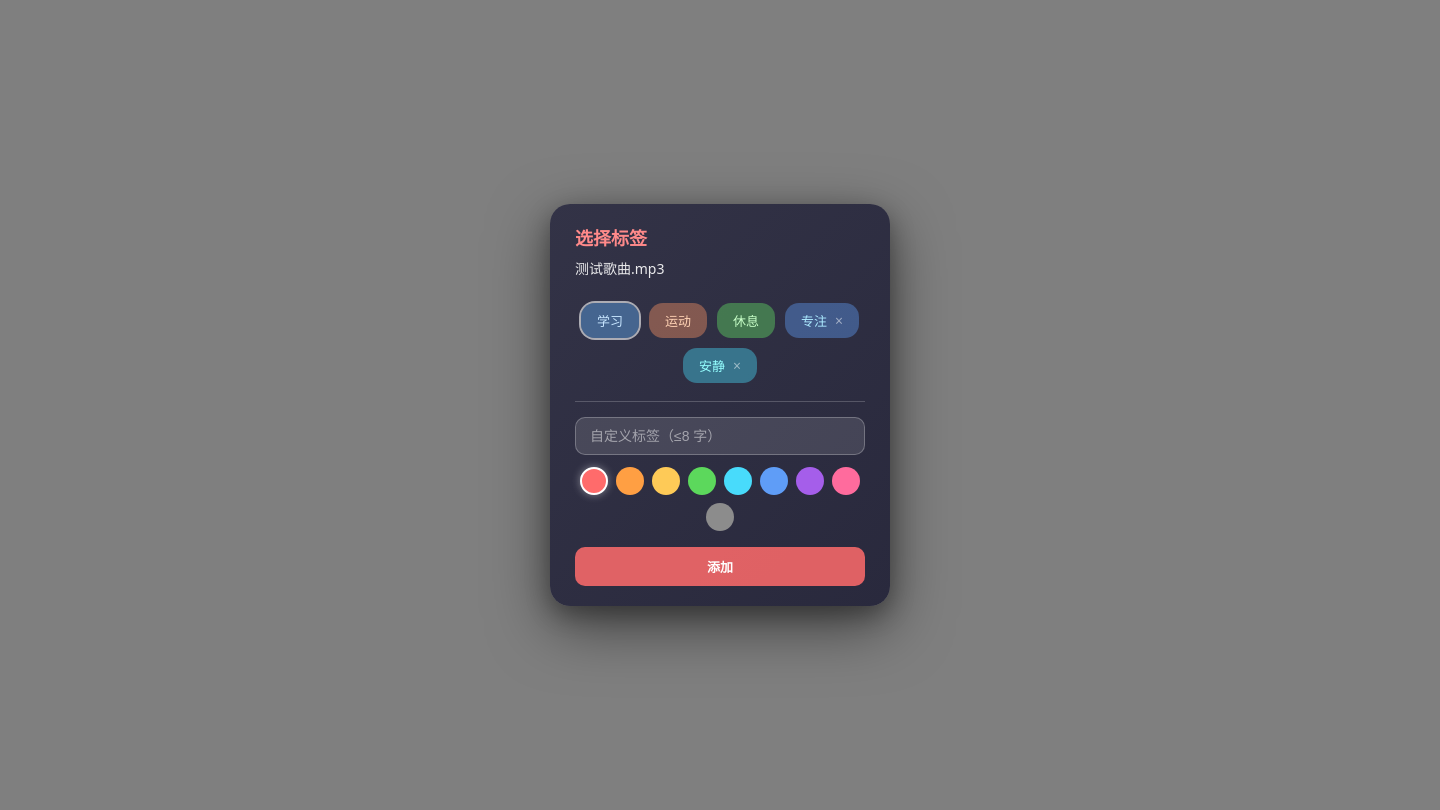
Test: MusicTagModal.vue › 自定义标签为空：显示错误且不提交
Click the button with class "tag-add-btn" at (720, 566), box x1=575 y1=547 x2=865 y2=586
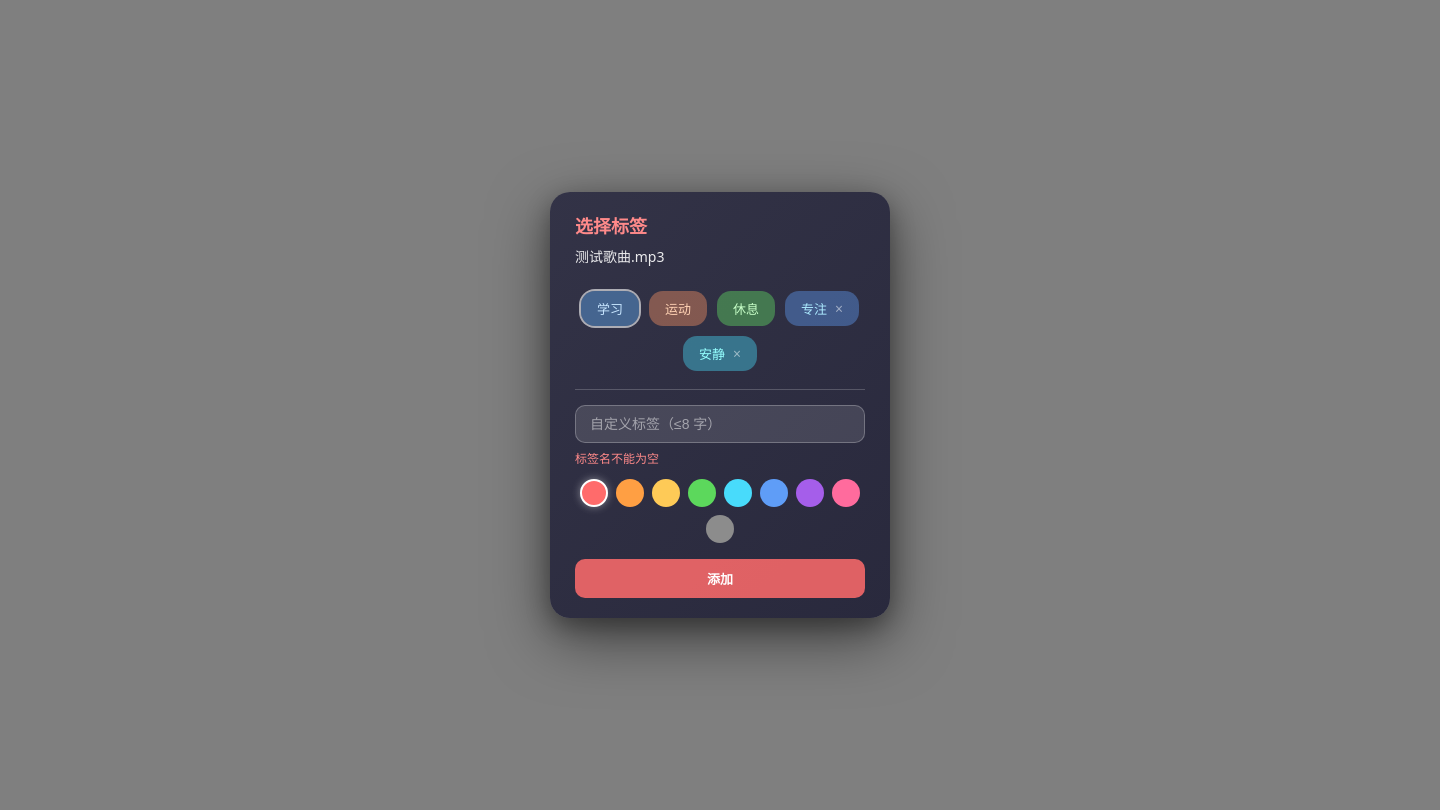
Expected: the text with class "tag-custom-error" shows "不能为空", x1=575 y1=450 x2=659 y2=467
